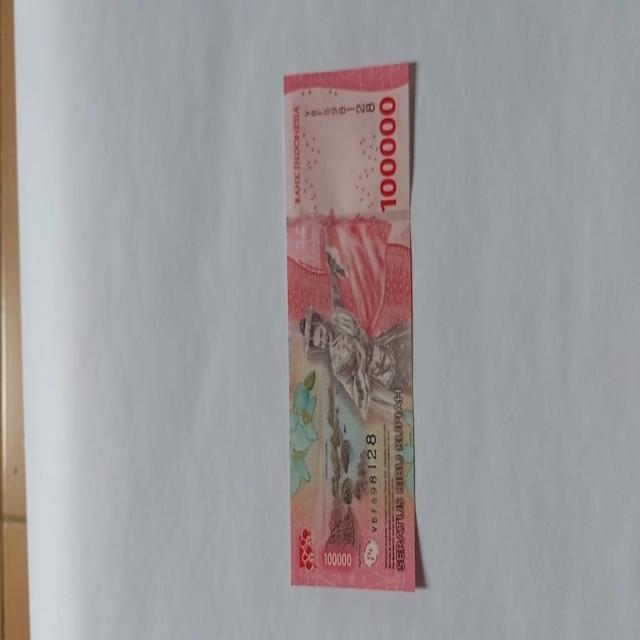seratus ribu rupiah: (284, 63, 416, 592)
